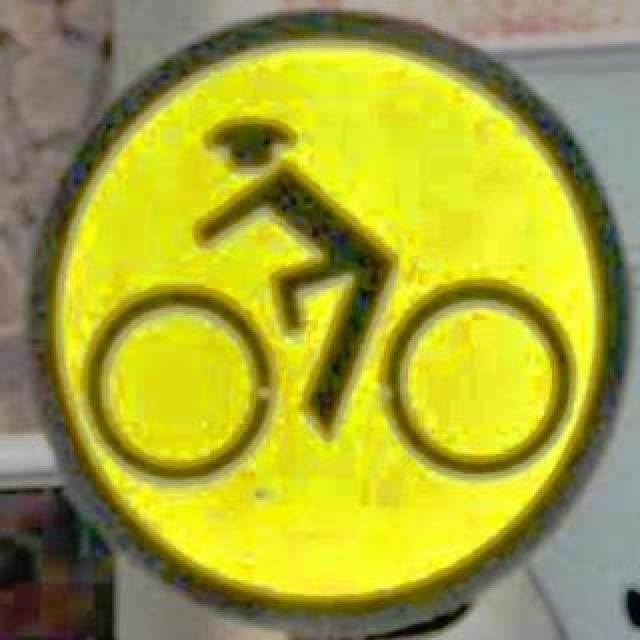bike lane: (24, 8, 628, 638)
